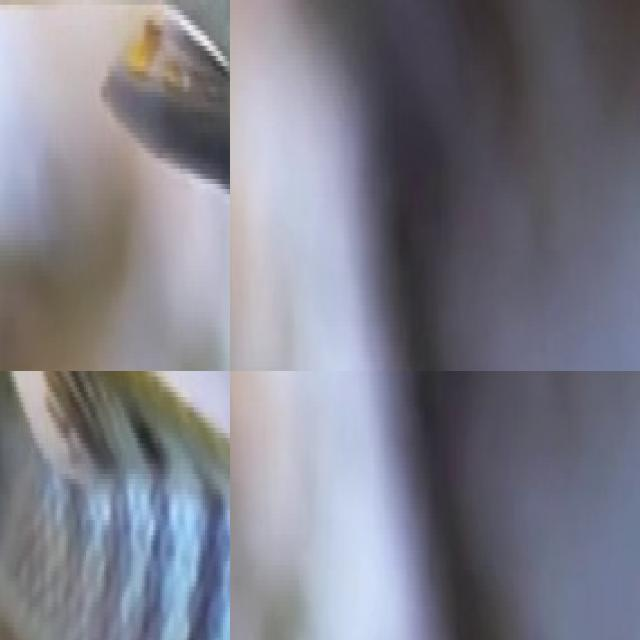fish: (0, 0, 230, 371)
